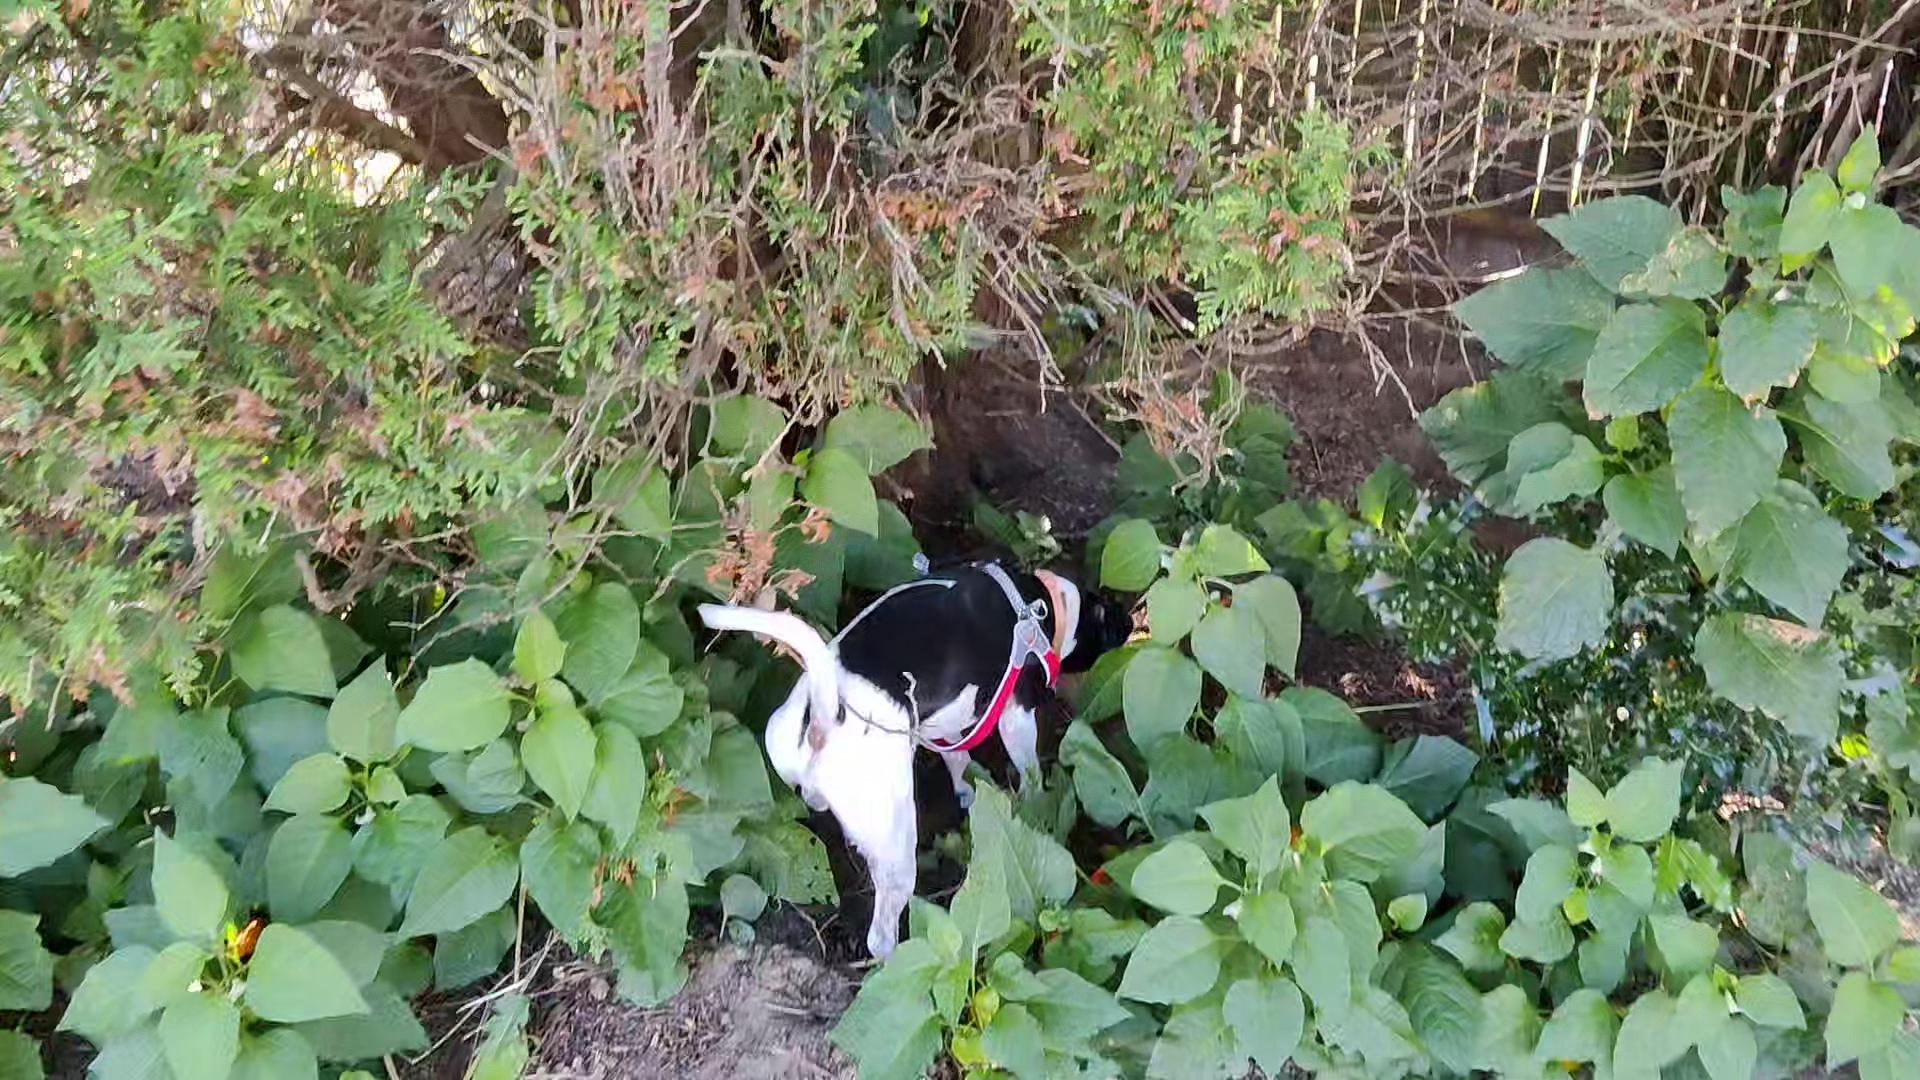Dog: (687, 550, 1147, 971)
